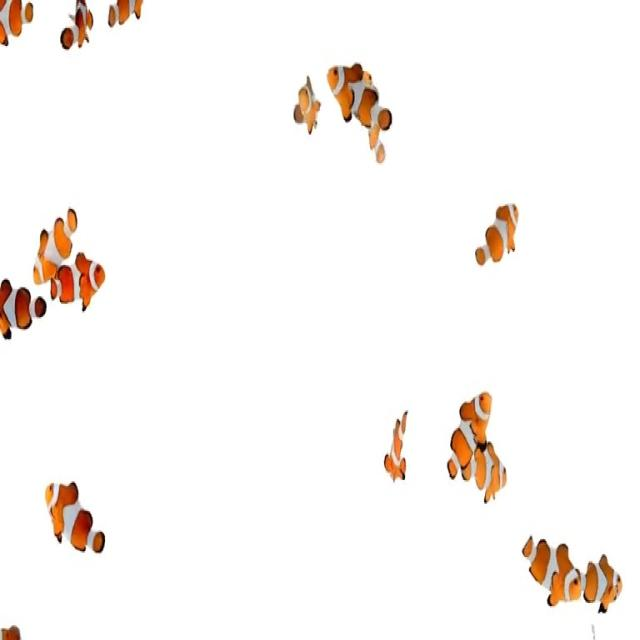fish: (325, 51, 398, 169), (44, 470, 114, 564), (516, 528, 583, 618), (445, 373, 495, 490), (472, 193, 525, 286), (383, 408, 427, 508), (32, 205, 80, 288), (49, 246, 107, 314), (464, 427, 509, 506), (582, 558, 627, 618), (0, 273, 38, 336), (63, 0, 101, 52), (292, 73, 318, 145), (1, 0, 34, 55), (106, 0, 151, 31)
